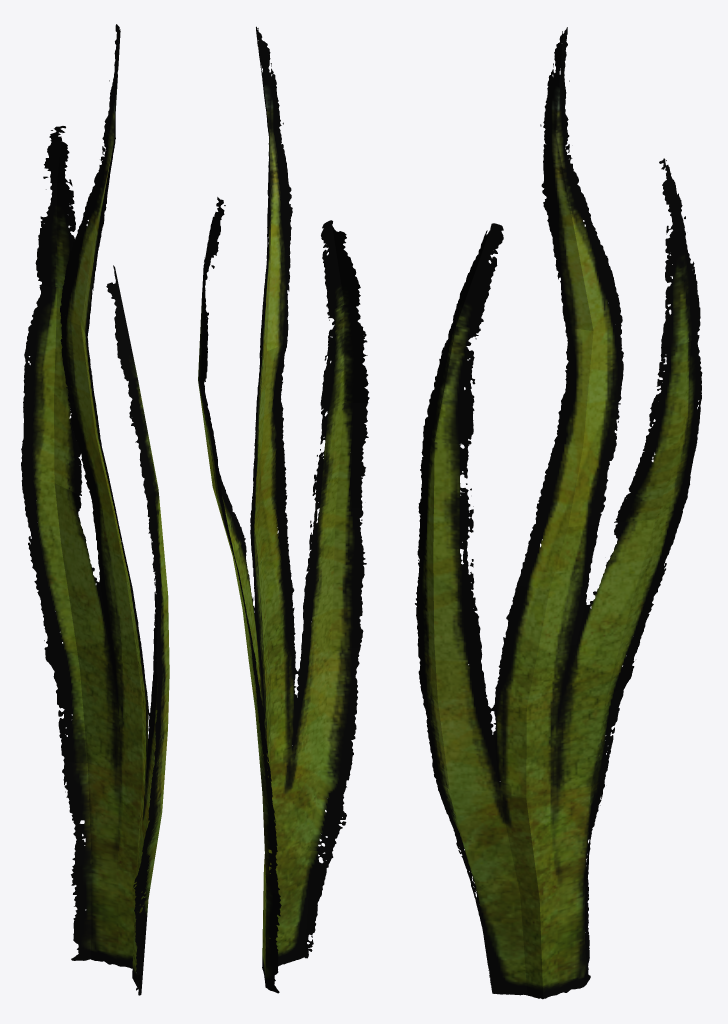
File: grass_1B_mesh.fbx
3 views of the same model, side by side, from view 1: azimuth 30°, elevation 25°; view 2: azimuth 150°, elevation 25°; view 3: azimuth 270°, elevation 25° (orthographic). The views are drawn at different scales.
Parts seen in each view (by area): view 1: grass_1B; view 2: grass_1B; view 3: grass_1B.
Part boxes in pixels (bbox=[...]): grass_1B: bbox=[21, 24, 169, 995]; grass_1B: bbox=[198, 26, 369, 993]; grass_1B: bbox=[415, 27, 702, 999].
Size of the model in its own units: 8.62 by 99.36 by 27.59.
